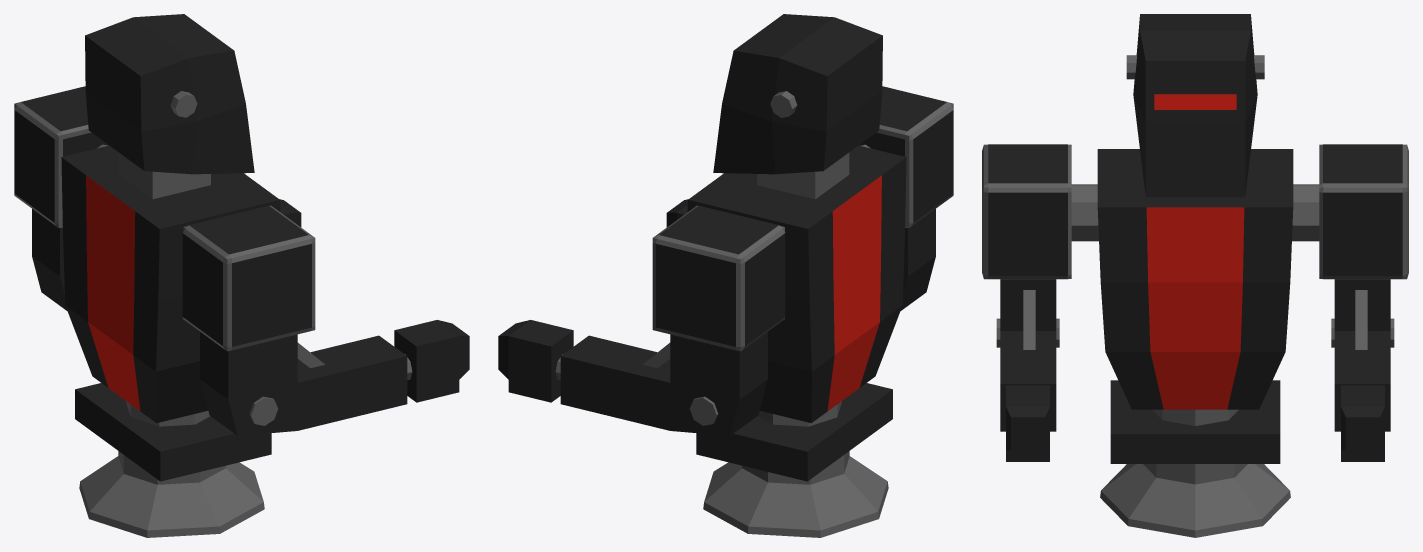
File: robot.fbx
The picture shows the model from 3 angles, left to right: view 1: azimuth 30°, elevation 25°; view 2: azimuth 150°, elevation 25°; view 3: azimuth 270°, elevation 25°; orthographic projection.
Parts seen in each view (by area): view 1: Cube; view 2: Cube; view 3: Cube.
Part boxes in pixels (<box>): Cube: <box>14,14,469,537</box>; Cube: <box>498,14,953,537</box>; Cube: <box>982,14,1408,537</box>.
Size of the model in its own units: 596 by 918 by 770.
